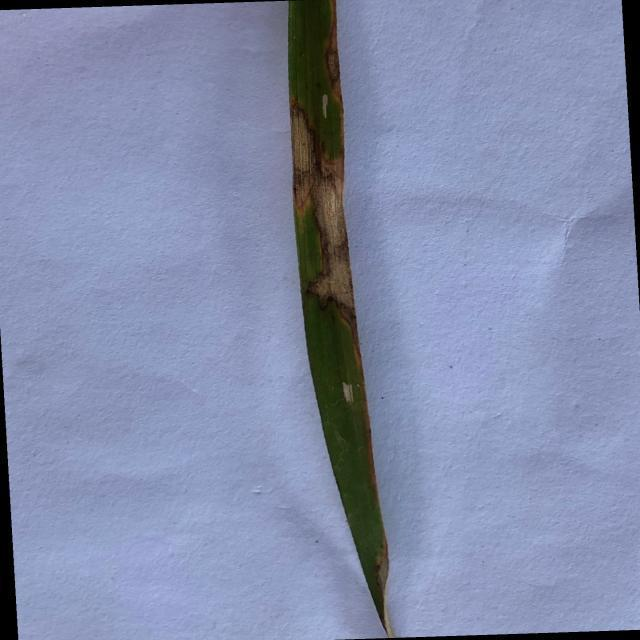Bacterial_Leaf_Blight: (287, 107, 360, 330), (322, 6, 349, 106)
